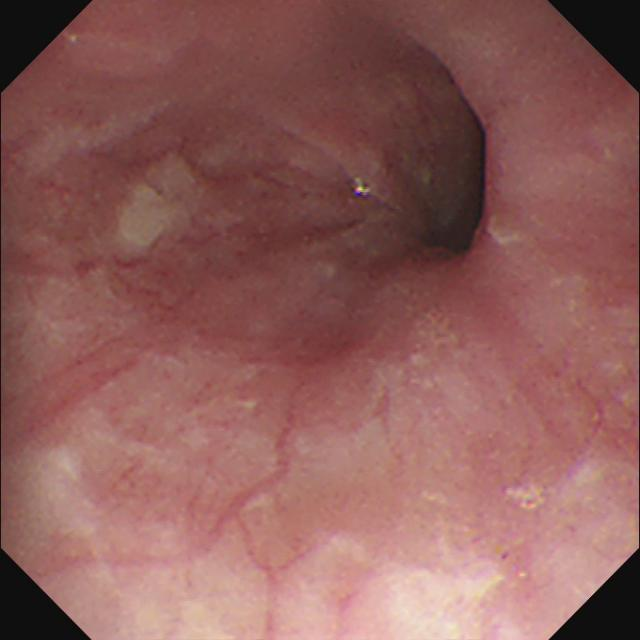A: (112, 261, 215, 353), (226, 331, 367, 382)
E: (420, 135, 498, 252)
J: (121, 154, 205, 254), (411, 308, 459, 370), (485, 217, 552, 256)
